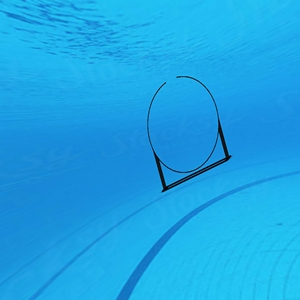circle: (146, 73, 237, 199)
